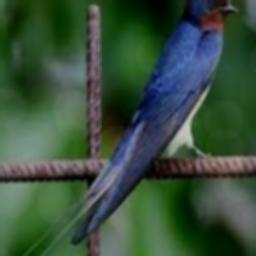Swallow: (1, 0, 237, 256)
